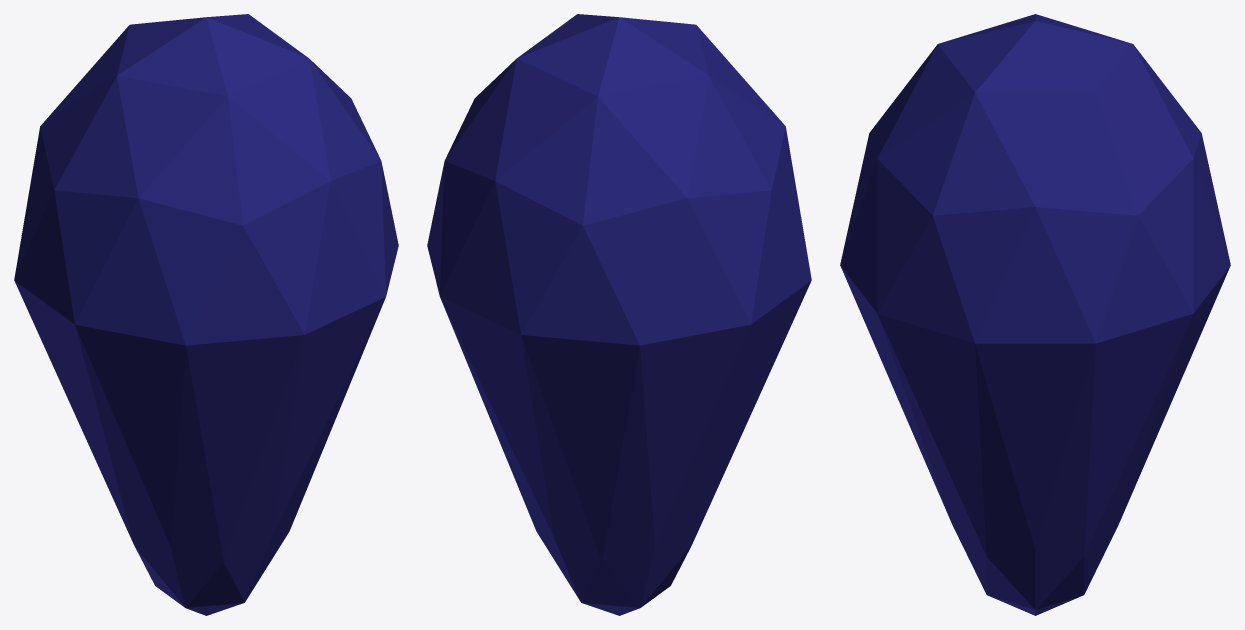
The model's file is mark.glb.
The picture shows the model from 3 angles, left to right: view 1: azimuth 30°, elevation 25°; view 2: azimuth 150°, elevation 25°; view 3: azimuth 270°, elevation 25°; orthographic projection.
Visible parts, largest first — view 1: Icosphere; view 2: Icosphere; view 3: Icosphere.
Boxes of the visible parts, left/top/right/bottom form: Icosphere: left=14, top=14, right=398, bottom=615; Icosphere: left=427, top=14, right=811, bottom=615; Icosphere: left=840, top=14, right=1230, bottom=615.
Size of the model in its own units: 8.48 by 14.99 by 8.92.
